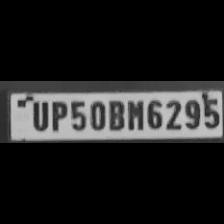0: (86, 97, 106, 130)
2: (163, 97, 183, 130)
5: (201, 96, 221, 130), (66, 99, 86, 131)
6: (144, 98, 162, 130)
9: (182, 98, 200, 130)
B: (107, 97, 125, 130)
M: (124, 97, 144, 130)
P: (48, 98, 68, 132)
U: (27, 99, 49, 131)
